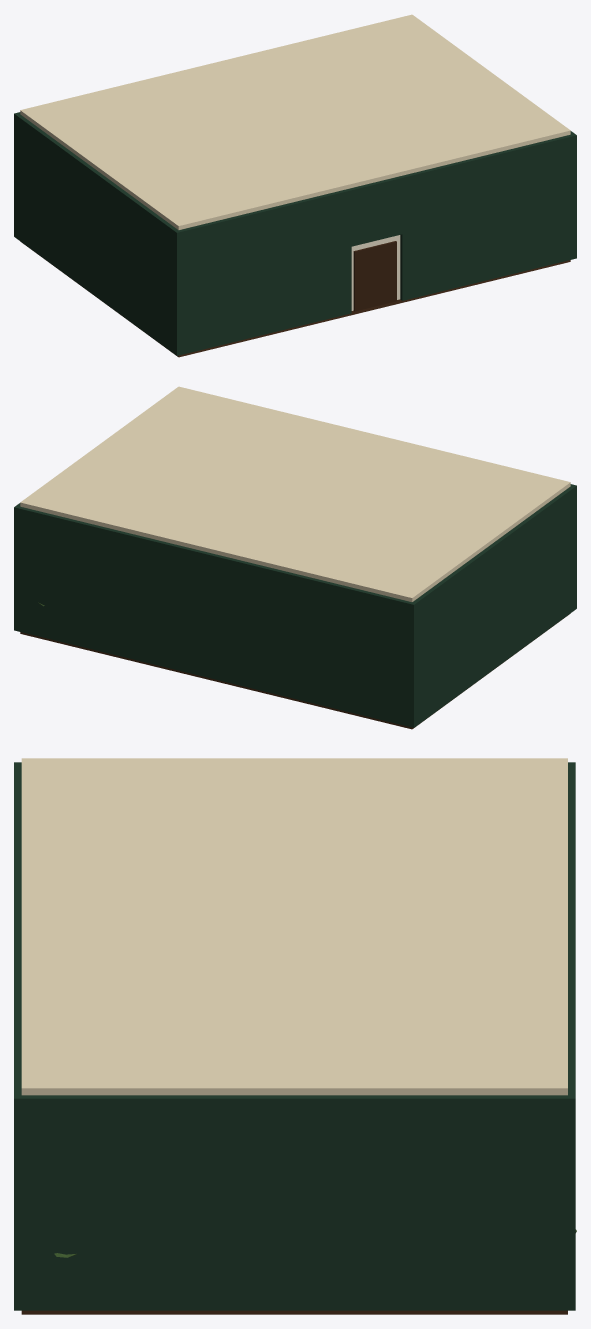
The model's file is lobby.glb.
The picture shows the model from 3 angles, top to bottom: view 1: azimuth 30°, elevation 25°; view 2: azimuth 150°, elevation 25°; view 3: azimuth 270°, elevation 25°; orthographic projection. The views are drawn at different scales.
Visible parts, largest first — view 1: Lobby_Room, Door_Exit_SwingP, Door_Exit_SwingN, Door_Exit; view 2: Lobby_Room; view 3: Lobby_Room.
Boxes of the visible parts, x1,y1,x2,y2 form: Lobby_Room: (14, 14, 576, 357); Door_Exit_SwingP: (353, 246, 375, 311); Door_Exit_SwingN: (375, 241, 396, 306); Door_Exit: (351, 235, 400, 310); Lobby_Room: (14, 386, 576, 729); Lobby_Room: (14, 758, 575, 1314).
Size of what is drawn, in the model's own units: 20.55 by 6.4 by 14.43.
